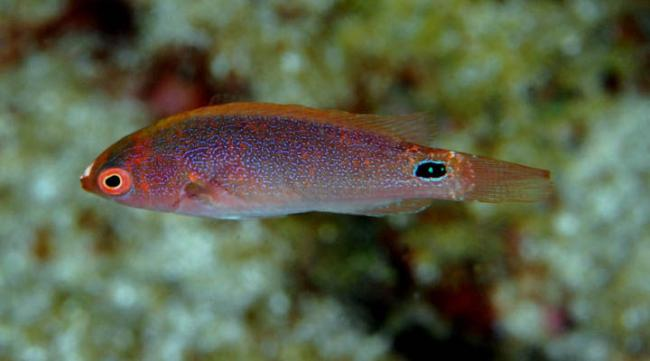fish: (80, 100, 553, 221)
